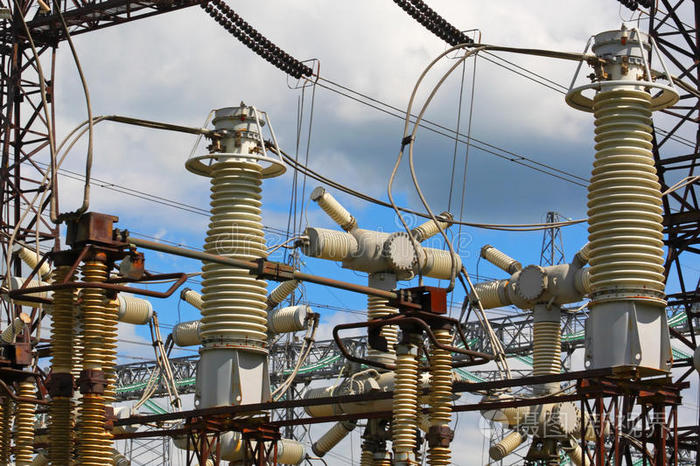insulator: (201, 1, 317, 80), (393, 1, 475, 49)
